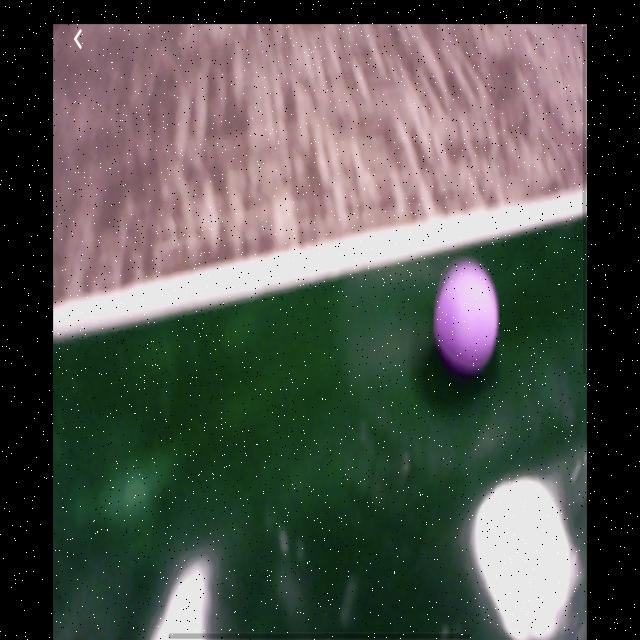ball: (433, 258, 501, 377)
